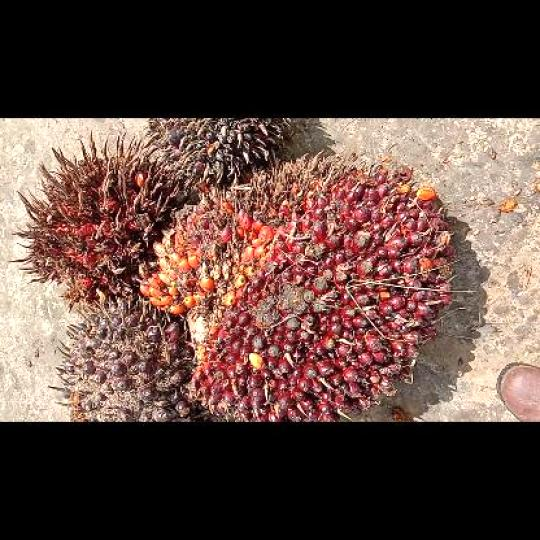kurang masak: (53, 295, 194, 422)
masak: (140, 150, 460, 421)
terlalu masak: (15, 134, 187, 291)
